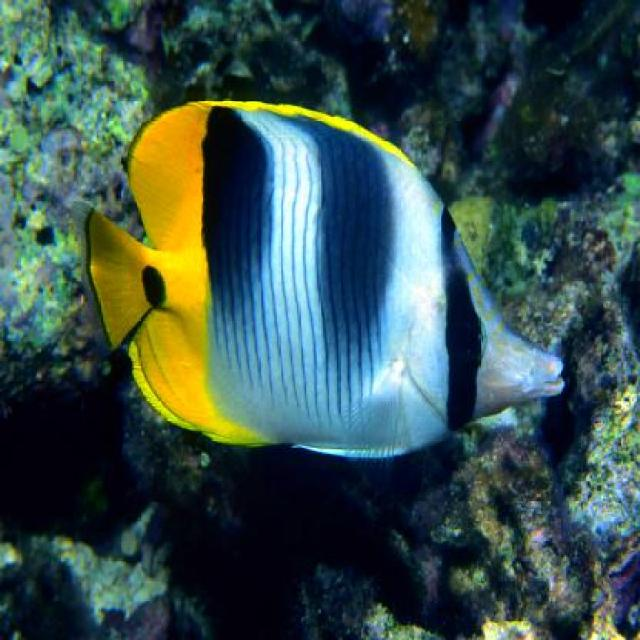ButterflyFish: (81, 104, 562, 464)
